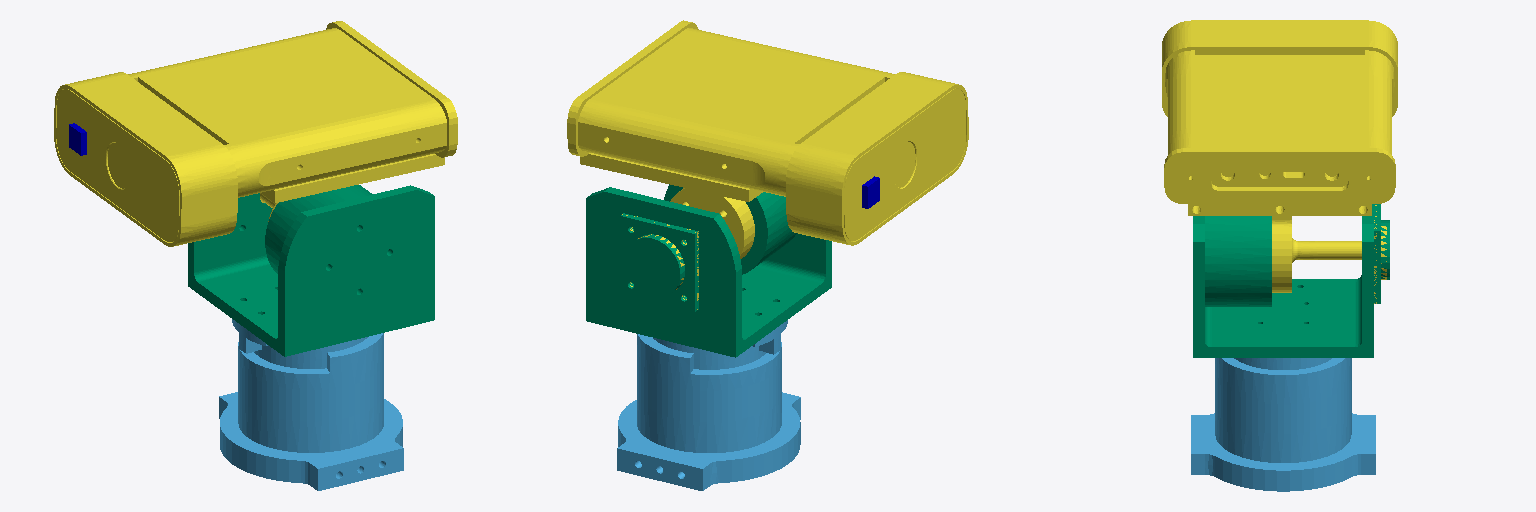
URDF robot description (twoarm_neck):
<robot name="twoarm_neck">
<link name="world">
</link>

<joint name="world_fixed" type="fixed">
<origin rpy="0 0 0" xyz="0 0 0"/>
<parent link="world"/>
    <child link="link0"/>
</joint>

<link name="link0">
 <inertial>
      <origin rpy="0 0 0" xyz="0 0 0"/>
      <mass value="1.59306955" />
      <inertia ixx="+0.00572623" iyy="+0.00558959" izz="+0.00966674" ixy="+0.00000251" iyz="-0.00000014" ixz="-0.00011380"/>
    </inertial>
    <visual>
      <origin rpy="0 0 0" xyz="0 0 0"/>
      <geometry>
        <mesh filename="two_arm_neck/neck1.stl"/>
      </geometry>
      <material name="metal_grey"/>
    </visual>
    <collision>
      <origin rpy="0 0 0" xyz="0 0 0"/>
      <geometry>
        <mesh filename="two_arm_neck/neck1.stl"/>
      </geometry>
    </collision>
</link>

<joint name="joint1" type="continuous">
    <parent link="link0"/>
    <child link="link1"/>
    <origin xyz = "0 0 0.06290" rpy = "0 0 0"/>
    <axis xyz = "0 0 1"/>
       <!--<limit effort="300" lower="-3.054325556" upper="3.054325556" velocity="10"/>
    <dynamics damping="0.5"/>-->
</joint>

<link name="link1">
 <inertial>
      <origin rpy="0 0 0" xyz="0 0 0"/>
      <mass value="1.59306955" />
      <inertia ixx="+0.00572623" iyy="+0.00558959" izz="+0.00966674" ixy="+0.00000251" iyz="-0.00000014" ixz="-0.00011380"/>
    </inertial>
    <visual>
      <origin rpy="0 0 0" xyz="0 0 0"/>
      <geometry>
        <mesh filename="two_arm_neck/neck2.stl"/>
      </geometry>
      <material name="metal_grey"/>
    </visual>
    <collision>
      <origin rpy="0 0 0" xyz="0 0 0"/>
      <geometry>
        <mesh filename="two_arm_neck/neck2.stl"/>
      </geometry>
    </collision>
</link>

<joint name="joint2" type="continuous">
    <parent link="link1"/>
    <child link="link2"/>
    <origin xyz = "0 0 0.035" rpy = "0 0 0"/>
    <axis xyz = "0 -1 0"/>
       <!--<limit effort="300" lower="-3.054325556" upper="3.054325556" velocity="10"/>
    <dynamics damping="0.5"/>-->
</joint>


<link name="link2">
 <inertial>
      <origin rpy="0 0 0" xyz="0 0 0"/>
      <mass value="1.59306955" />
      <inertia ixx="+0.00572623" iyy="+0.00558959" izz="+0.00966674" ixy="+0.00000251" iyz="-0.00000014" ixz="-0.00011380"/>
    </inertial>
    <visual>
      <origin rpy="0 0 0" xyz="0 0 0"/>
      <geometry>
        <mesh filename="two_arm_neck/neck3.stl"/>
      </geometry>
      <material name="metal_grey"/>
    </visual>
    <collision>
      <origin rpy="0 0 0" xyz="0 0 0"/>
      <geometry>
        <mesh filename="two_arm_neck/neck3.stl"/>
      </geometry>
    </collision>
</link>

<joint name="joint3" type="continuous">
    <parent link="link2"/>
    <child link="tcp"/>
    <origin xyz = "-0.08867 0.02840 0.04790" rpy = "0 0 0"/>
    <axis xyz = "0 -1 0"/>
       <!--<limit effort="300" lower="-3.054325556" upper="3.054325556" velocity="10"/>
    <dynamics damping="0.5"/>-->
</joint>

<link name="tcp">
 <inertial>
      <origin rpy="0 0 0" xyz="0 0 0"/>
      <mass value="1.59306955" />
      <inertia ixx="+0.00572623" iyy="+0.00558959" izz="+0.00966674" ixy="+0.00000251" iyz="-0.00000014" ixz="-0.00011380"/>
    </inertial>
    <visual>
      <origin rpy="0 0 0" xyz="0 0 0"/>
      <geometry>
       <box size="0.01 0.01 0.01" />
      </geometry>
      <material name="blue">
    <color rgba="0.0 0.0 0.8 1.0"/>
  </material>
    </visual>
    <collision>
      <origin rpy="0 0 0" xyz="0 0 0"/>
      <geometry>
        <box size="0.01 0.01 0.01" />
      </geometry>
    </collision>
</link>

</robot>

--- Render facts (derived) ---
Views: 3 orthographic renders of the robot side by side, from view 1: azimuth 30°, elevation 25°; view 2: azimuth 150°, elevation 25°; view 3: azimuth 270°, elevation 25°.
Model twoarm_neck with 5 links and 4 joints (3 continuous, 1 fixed), rooted at world, posed every joint at zero.
Visible links, largest first — view 1: link2, link1, link0; view 2: link2, link1, link0; view 3: link2, link1, link0.
Link boxes in pixels (<box>): link2: <box>54,21,457,246</box>; link1: <box>188,185,434,356</box>; link0: <box>219,319,403,490</box>; link2: <box>567,20,968,309</box>; link1: <box>586,184,831,357</box>; link0: <box>617,320,800,490</box>; link2: <box>1162,20,1397,303</box>; link1: <box>1193,204,1389,357</box>; link0: <box>1191,358,1375,491</box>.
Size in the robot's own frame: 0.1323 by 0.1025 by 0.1654 metres.
Meshes: 3 distinct files referenced, 3 mesh visuals loaded (3 binary STL).